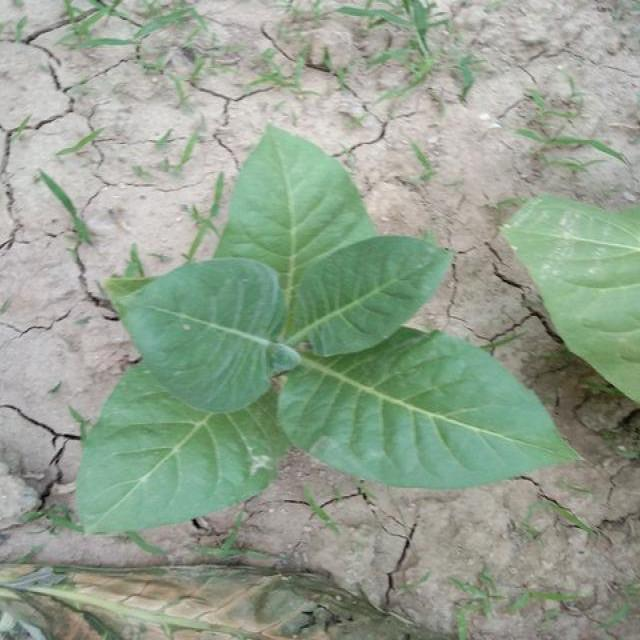crop: (69, 116, 572, 528), (509, 190, 640, 397)
